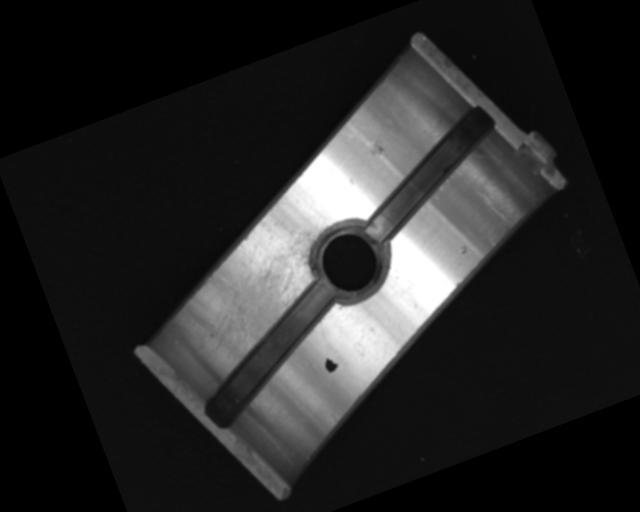blot: (321, 353, 340, 375)
bruise: (365, 137, 387, 159), (456, 243, 470, 256)
gap: (176, 276, 364, 431), (338, 102, 519, 245)
hole: (300, 209, 398, 312)
nick: (476, 181, 517, 234)
scratch: (171, 186, 360, 366)
